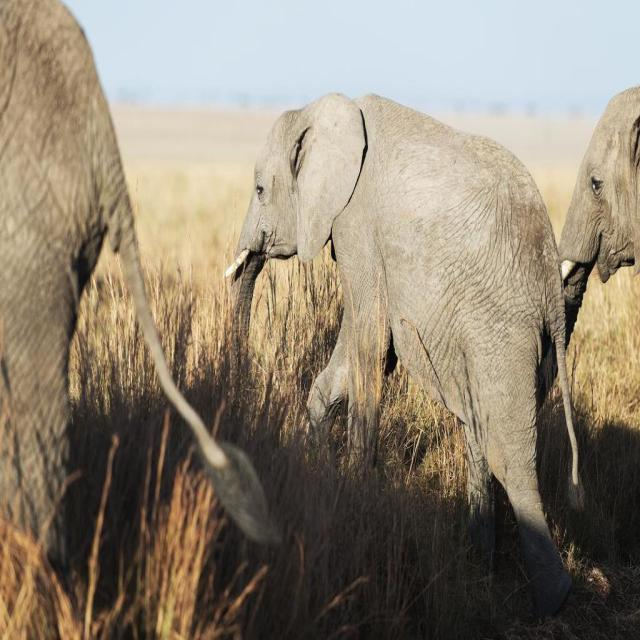Elephant: (223, 90, 585, 618), (0, 0, 279, 582)
